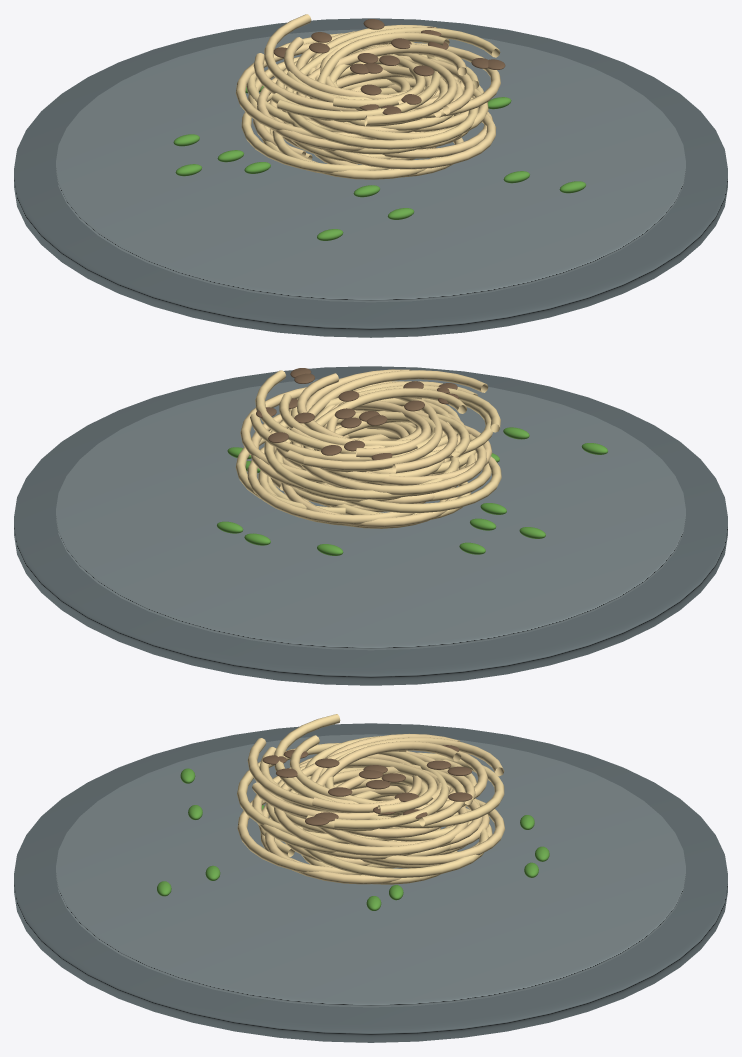
The model's file is pasta.glb.
3 renders of one model, top to bottom at view 1: azimuth 30°, elevation 25°; view 2: azimuth 150°, elevation 25°; view 3: azimuth 270°, elevation 25°, orthographic.
Bounding box in the file's own units: 0.29 × 0.0562 × 0.29.
